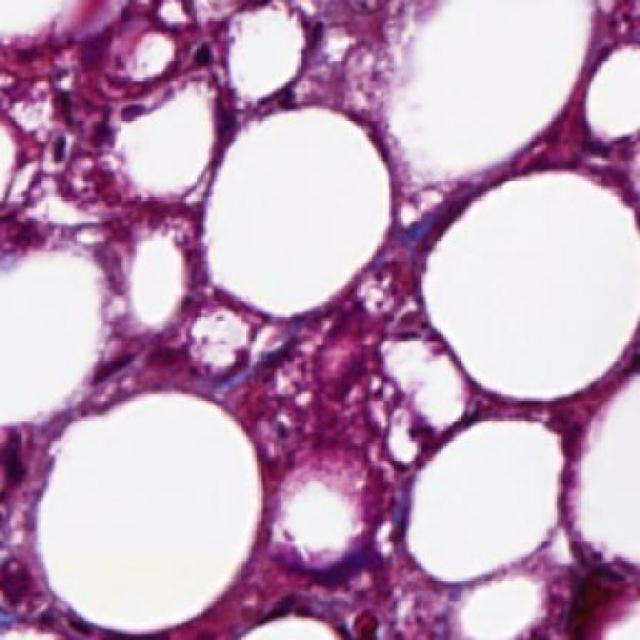inflammation: (36, 68, 120, 164)
